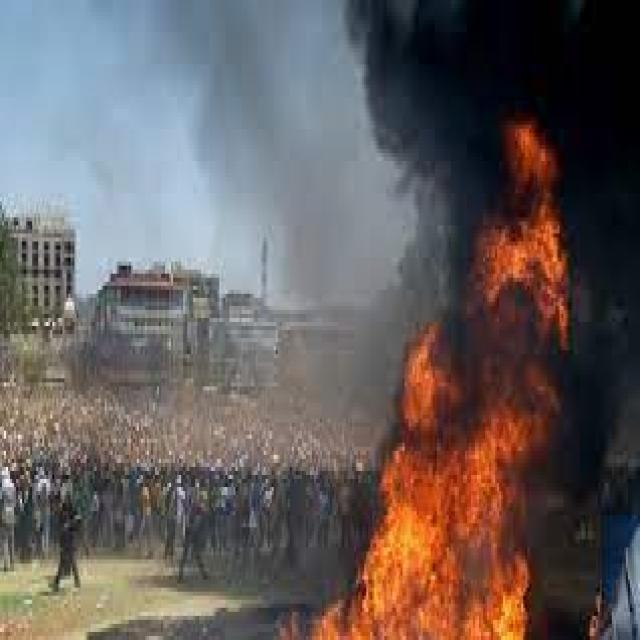Fire: (371, 326, 526, 546), (314, 547, 528, 640), (474, 221, 568, 350), (508, 124, 556, 224), (522, 354, 558, 467), (279, 604, 315, 639), (588, 590, 603, 638)
Smoke: (346, 0, 640, 125), (567, 221, 640, 486), (375, 125, 508, 221), (555, 126, 640, 220), (399, 224, 475, 327), (558, 354, 570, 488)
